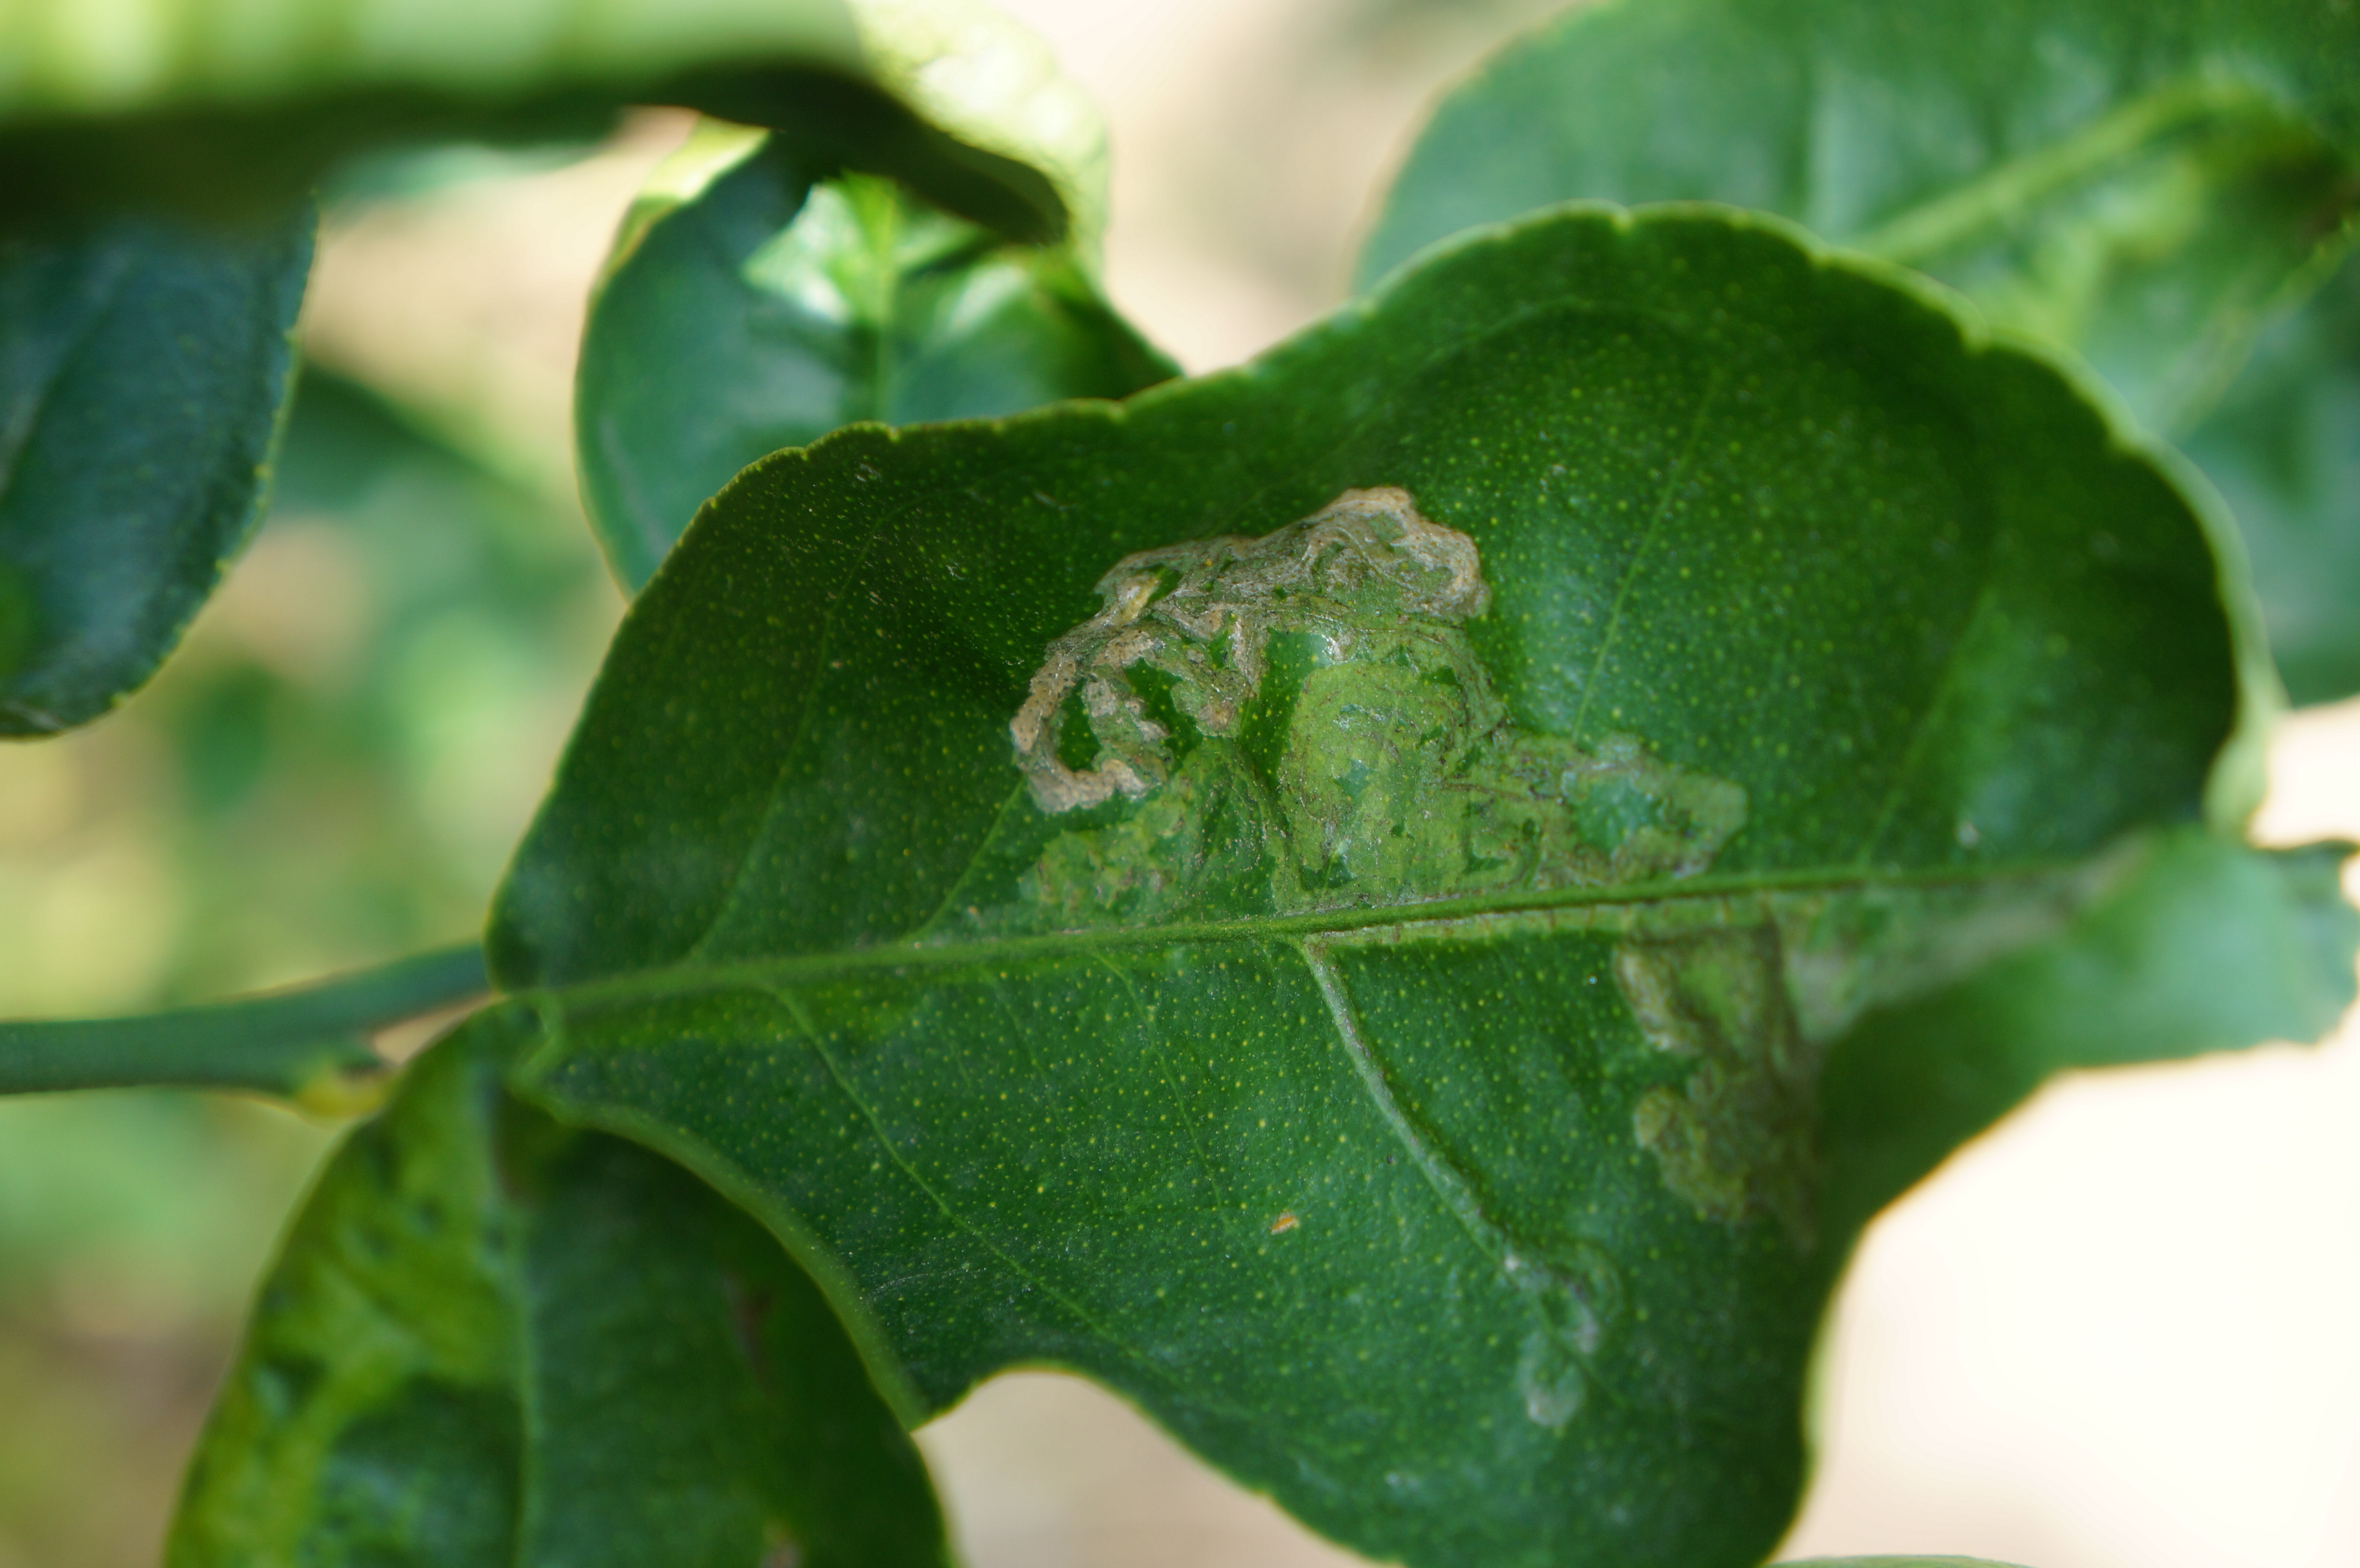damage: (1002, 476, 1809, 906)
